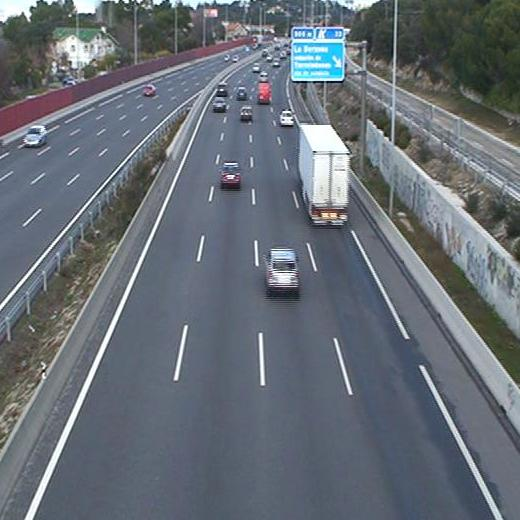car: (266, 248, 300, 289), (221, 162, 241, 186), (279, 110, 294, 126), (212, 97, 228, 111), (241, 106, 254, 121), (216, 82, 229, 95), (236, 87, 248, 100), (259, 71, 270, 83)
truck: (297, 124, 350, 223)
van: (257, 83, 271, 104)
